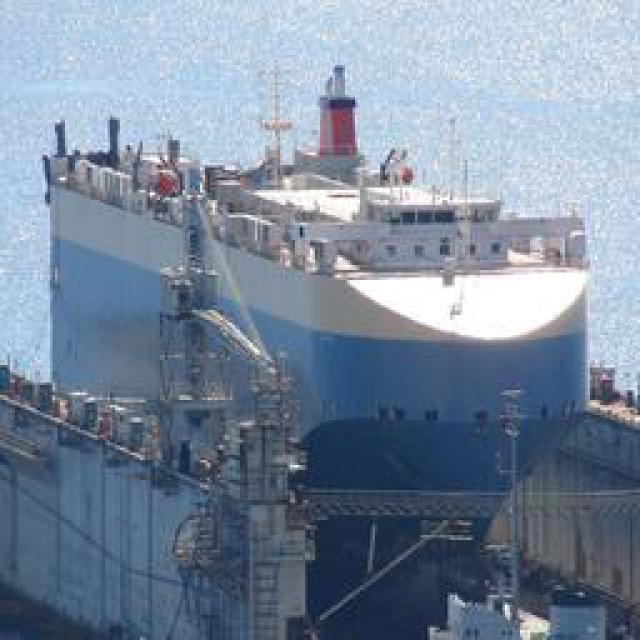Ship: (51, 76, 606, 589)
